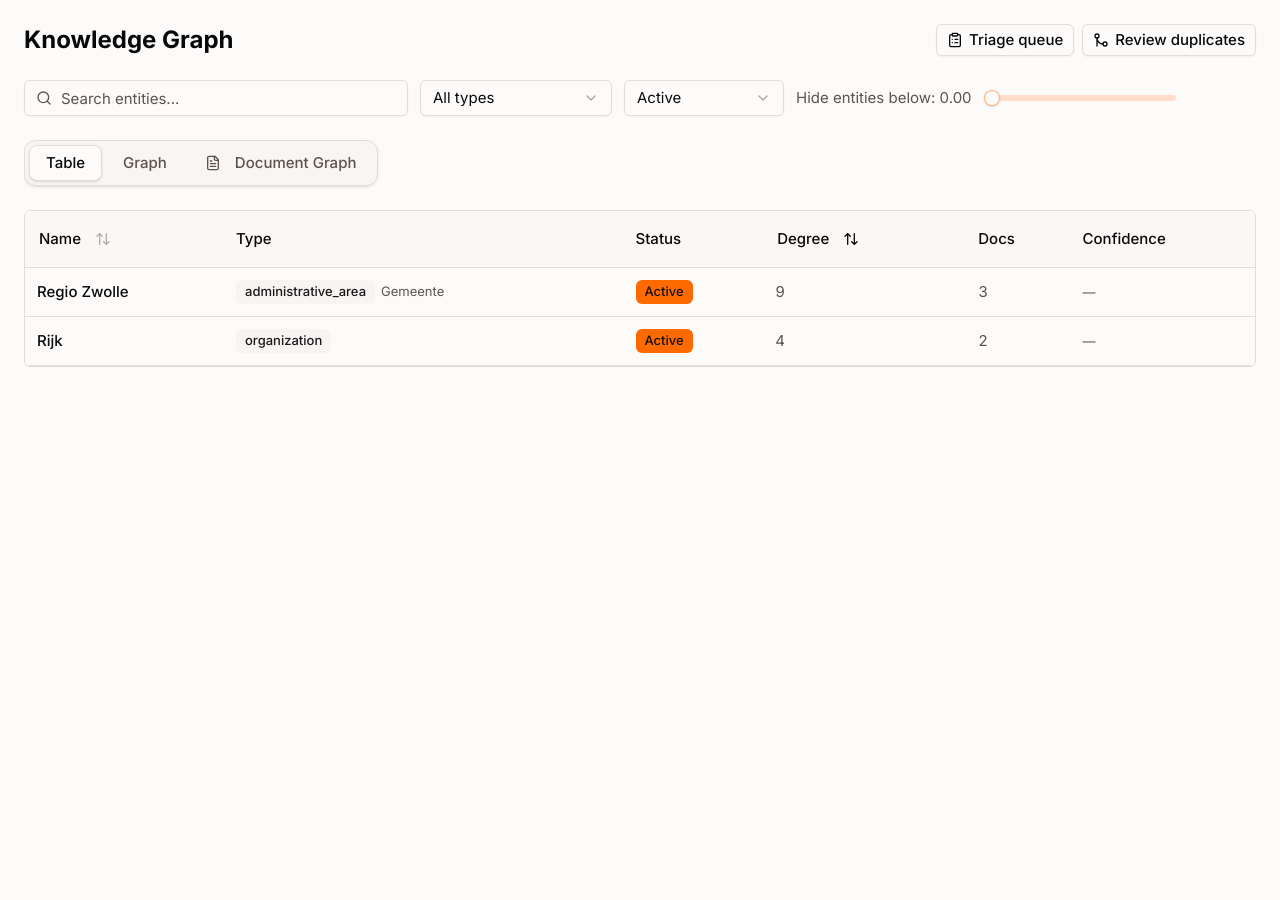
Knowledge Graph details: closing wins (WB.5 review m2) › a sheet closed while it loads stays closed when the answer arrives
Click the row with test id "entity-row-entity:a".
click(640, 292)  # box 25,268 -> 1255,316
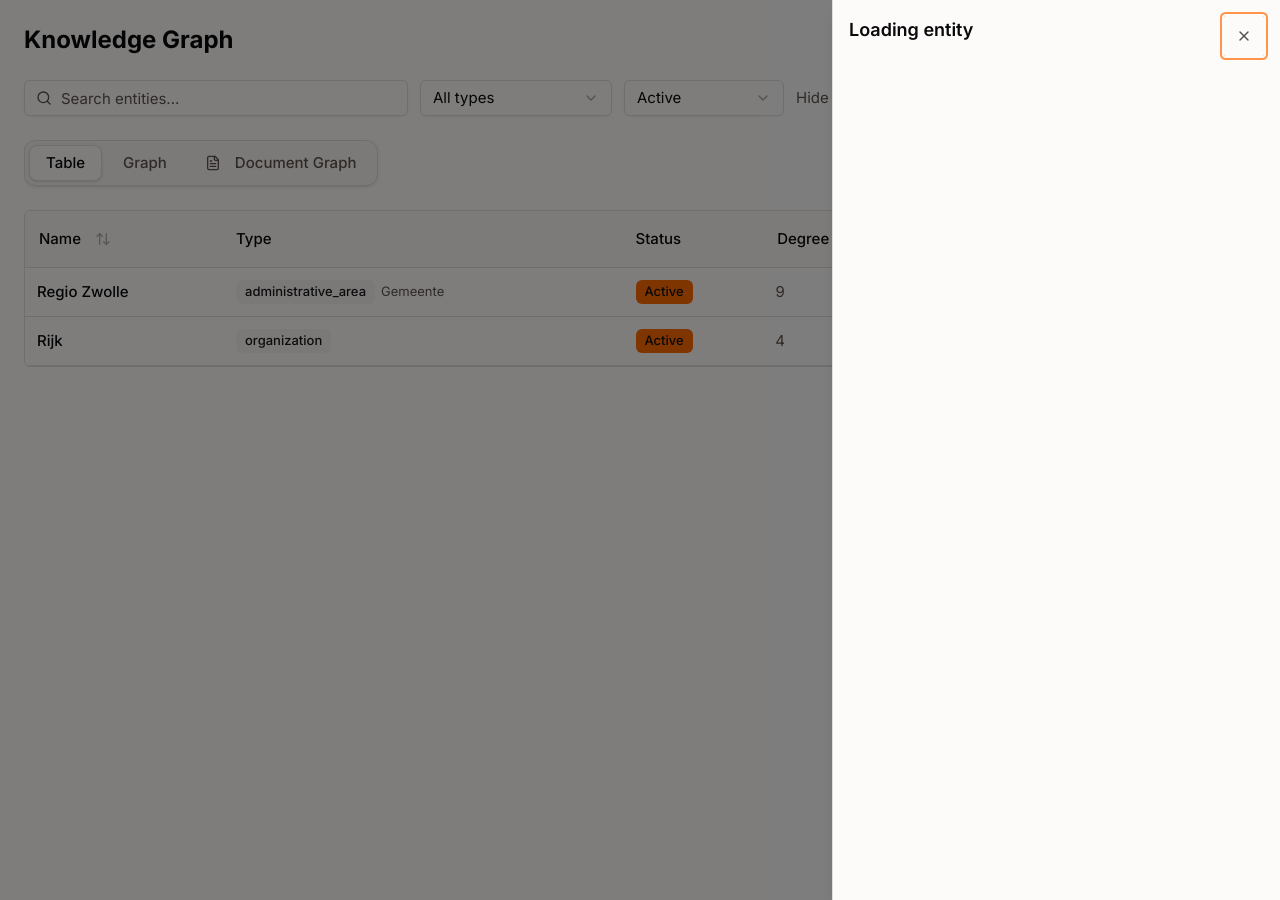
Expected: the heading "Loading entity" is shown, 849,19 -> 974,40
Click the button named "Close".
click(1244, 36)  # box 1224,16 -> 1264,56
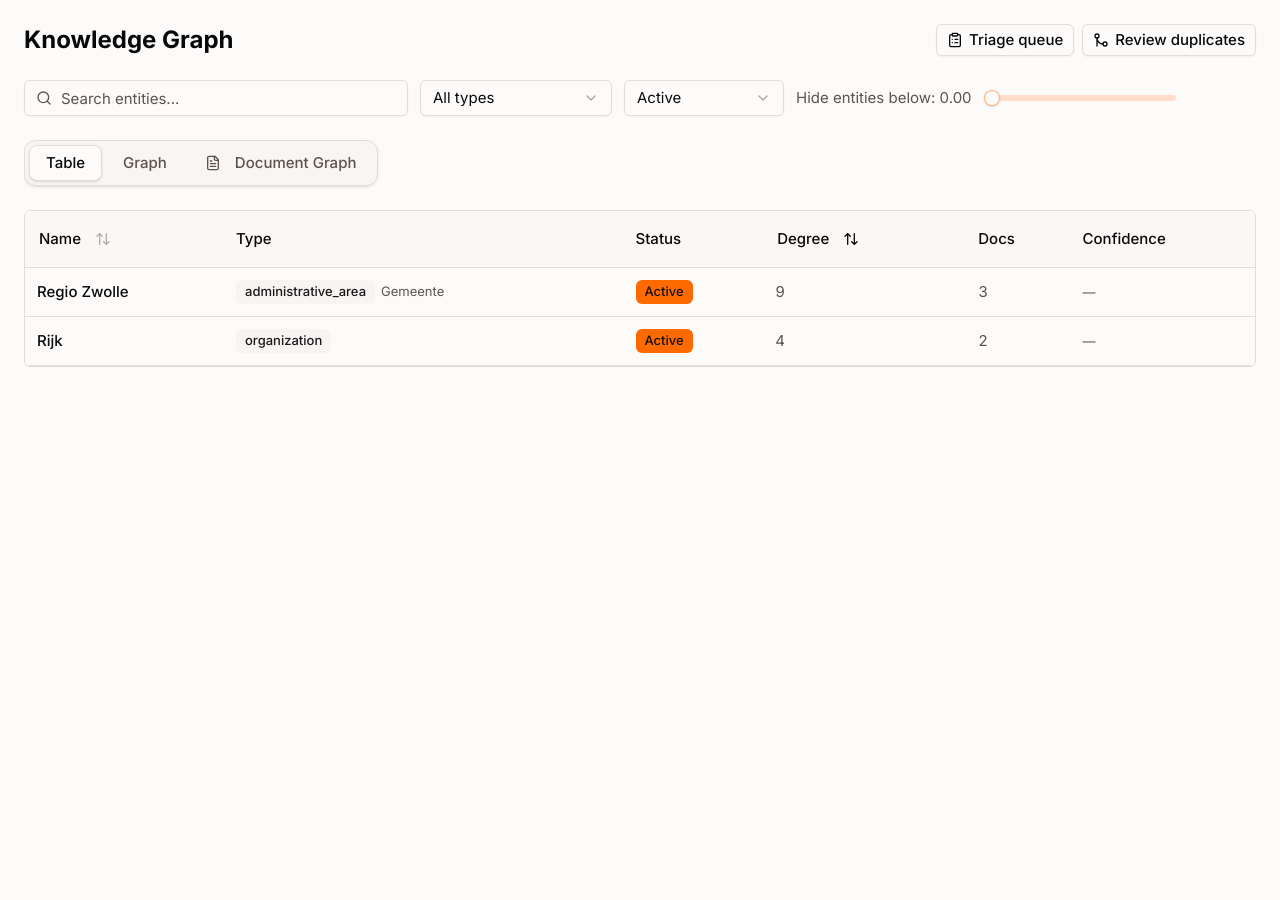
Expected: the dialog is gone
